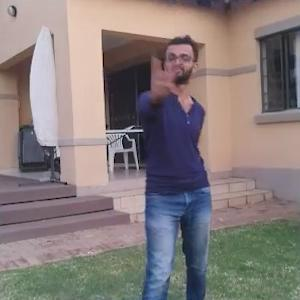takeoff-hand: (145, 49, 176, 99)
